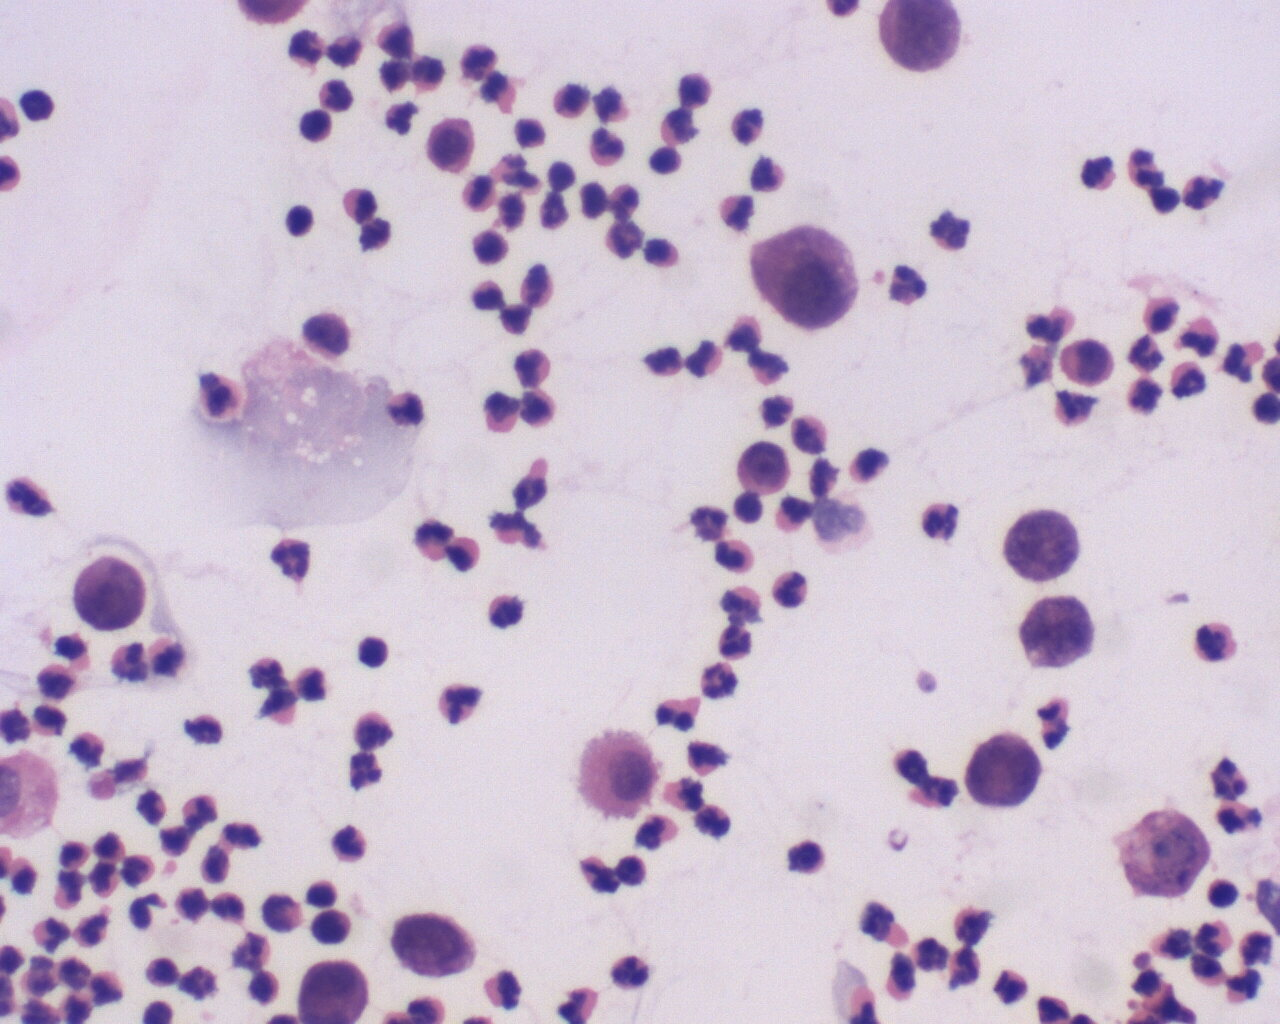ab: (757, 217, 868, 340), (872, 1, 967, 77), (965, 728, 1045, 818), (66, 553, 149, 635), (378, 909, 479, 977), (998, 504, 1081, 584), (1020, 594, 1096, 677), (296, 958, 379, 1024), (734, 435, 797, 499), (420, 114, 478, 174)
lymph: (18, 85, 59, 127), (296, 106, 336, 146), (353, 630, 394, 670), (646, 143, 688, 182), (1206, 874, 1242, 913), (284, 202, 319, 240)
meso: (574, 728, 669, 822)
neutro: (270, 533, 320, 589), (430, 681, 488, 730), (1181, 164, 1233, 217), (885, 256, 933, 311), (698, 657, 748, 709), (327, 818, 376, 867), (1202, 758, 1255, 802), (1194, 615, 1238, 667), (920, 496, 964, 543), (385, 385, 430, 426), (340, 752, 388, 792), (610, 950, 655, 992), (584, 127, 629, 169), (509, 347, 557, 386), (718, 190, 759, 235), (771, 568, 811, 613), (728, 104, 772, 144), (1168, 359, 1207, 402), (30, 914, 70, 955), (325, 34, 366, 74), (179, 788, 216, 831)
